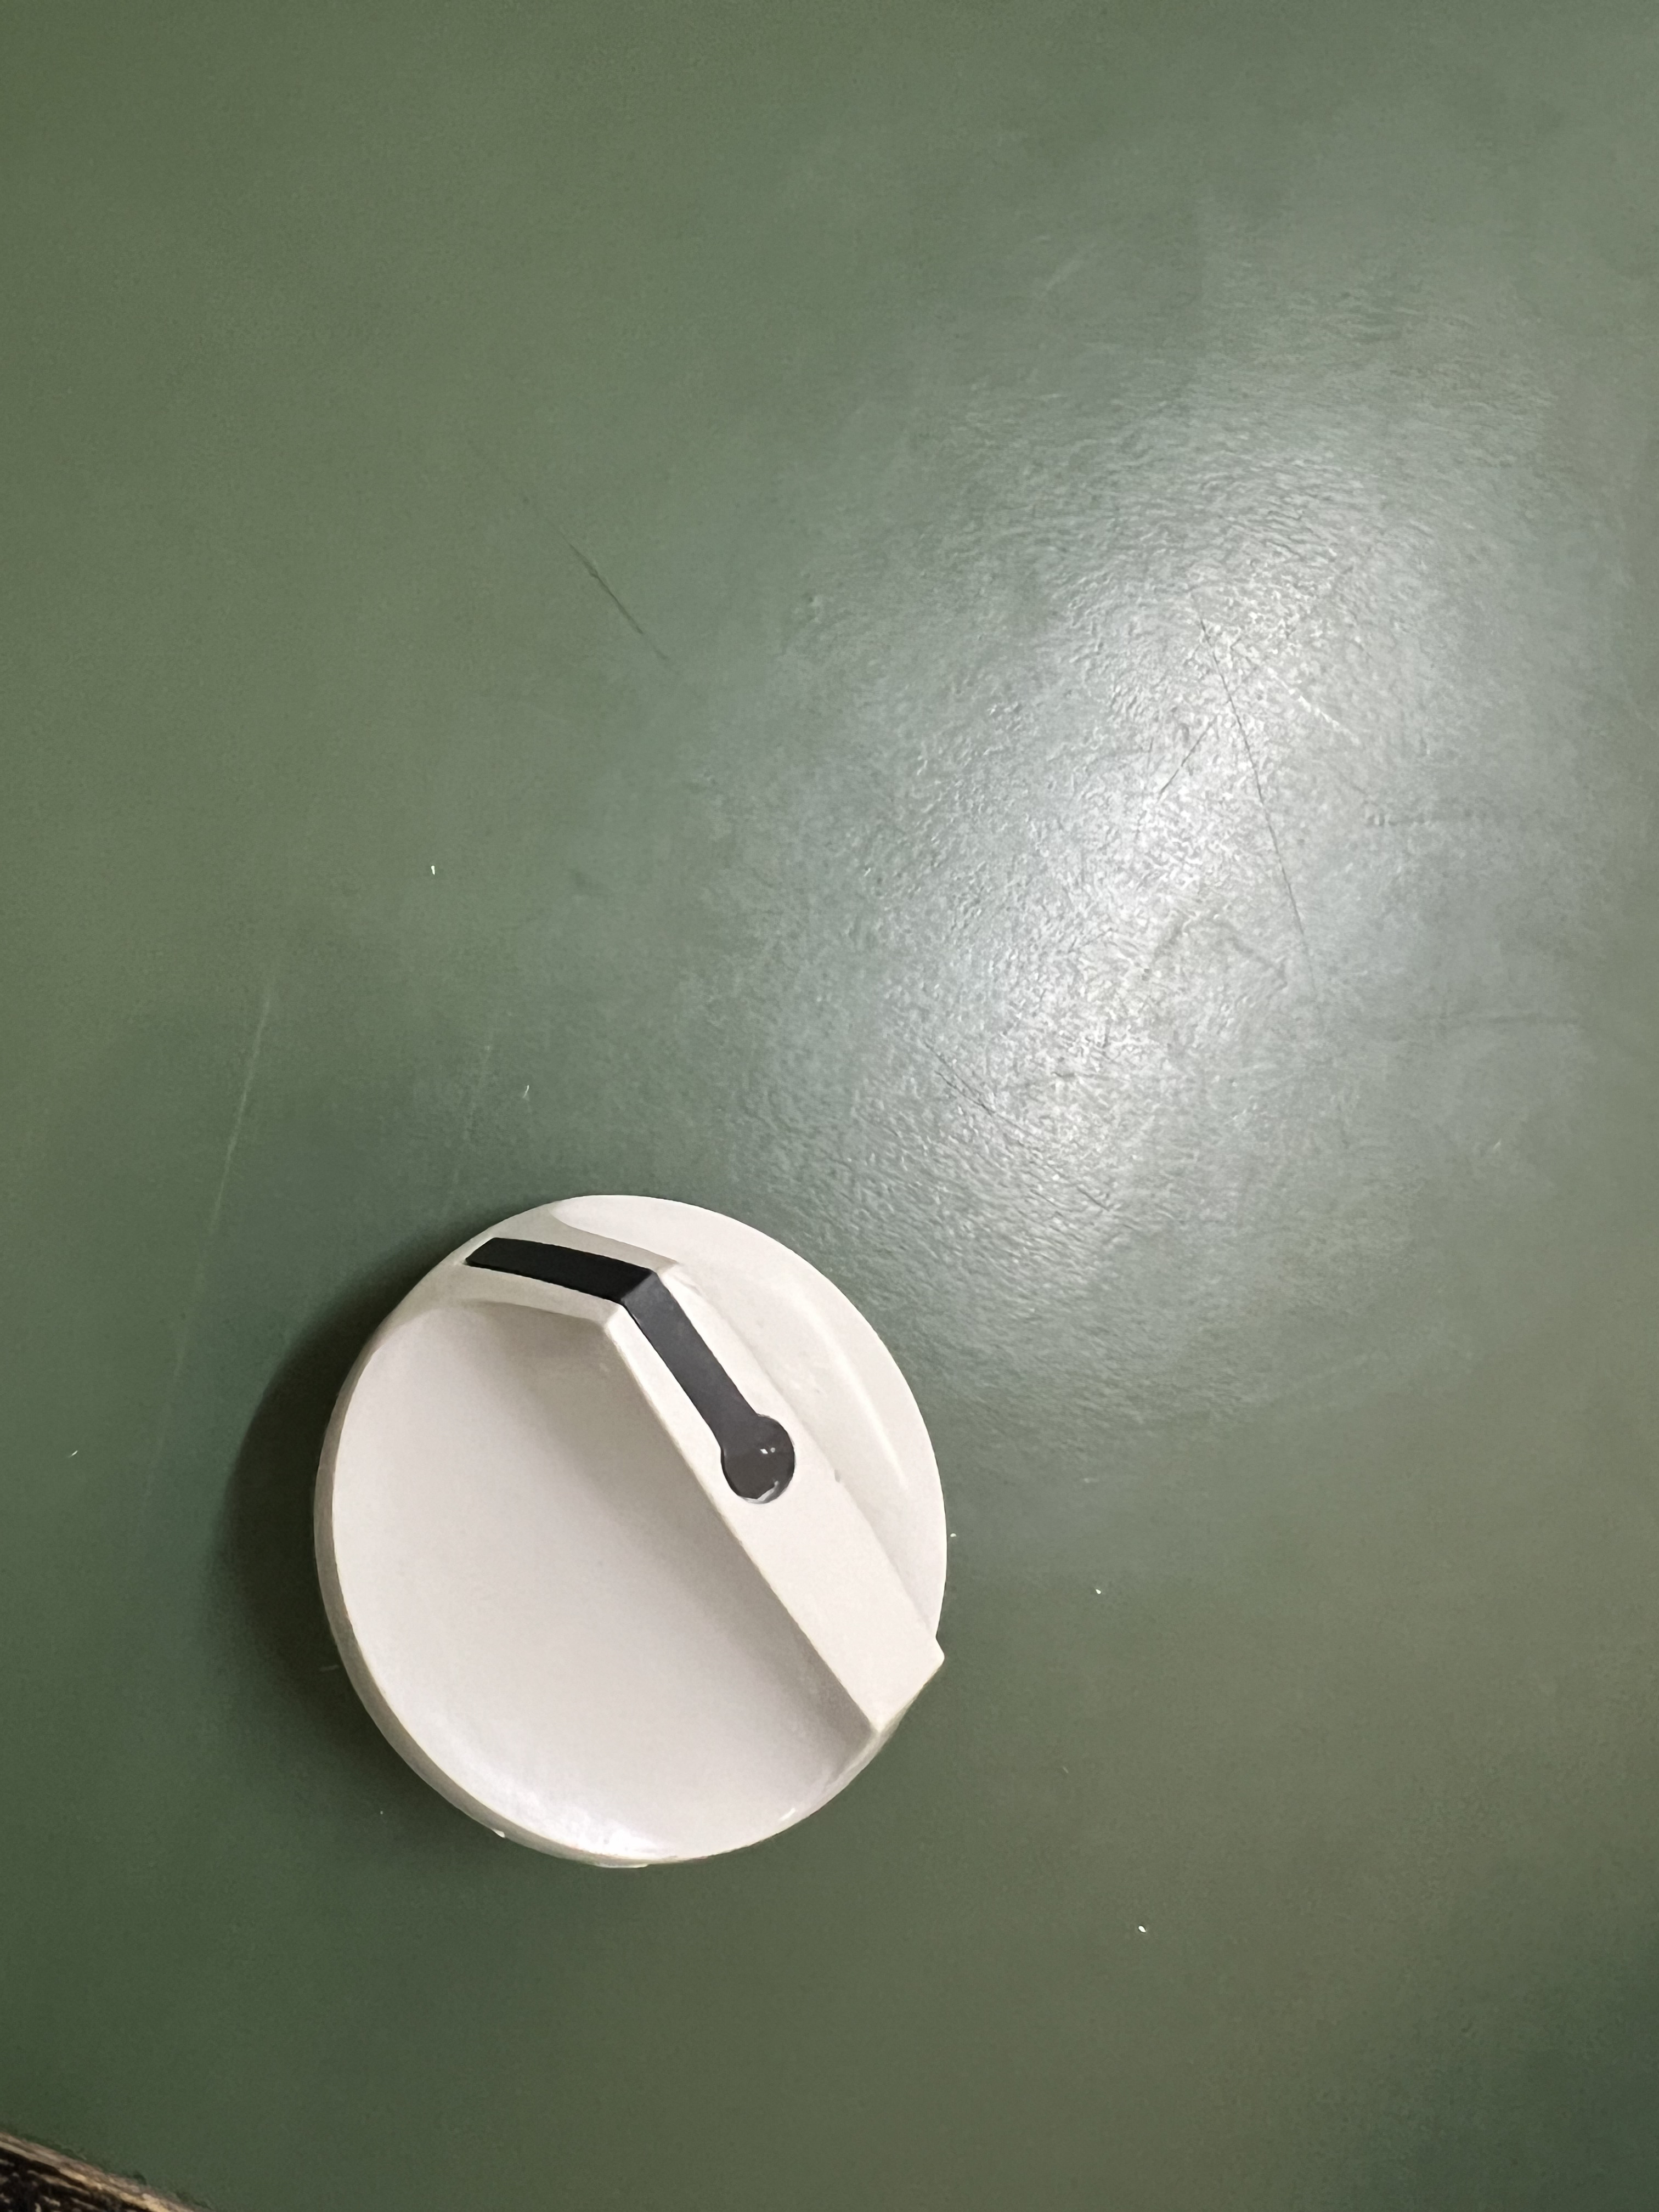regulator: (296, 1137, 972, 1885)
